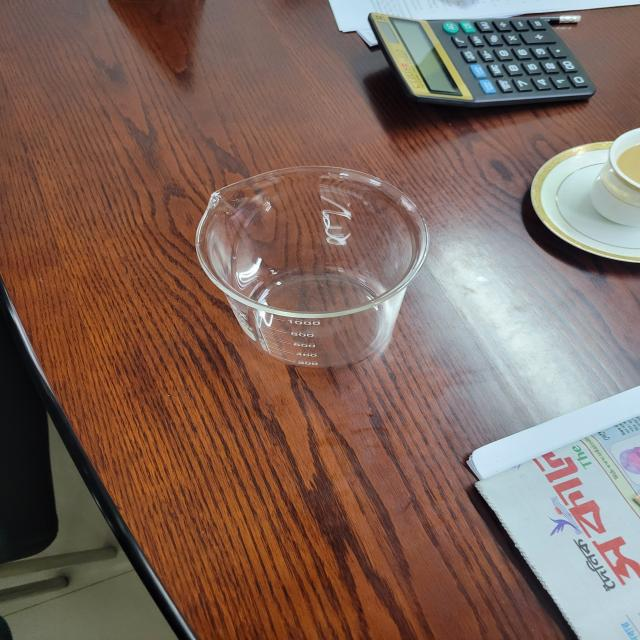Beaker: (183, 157, 437, 376)
